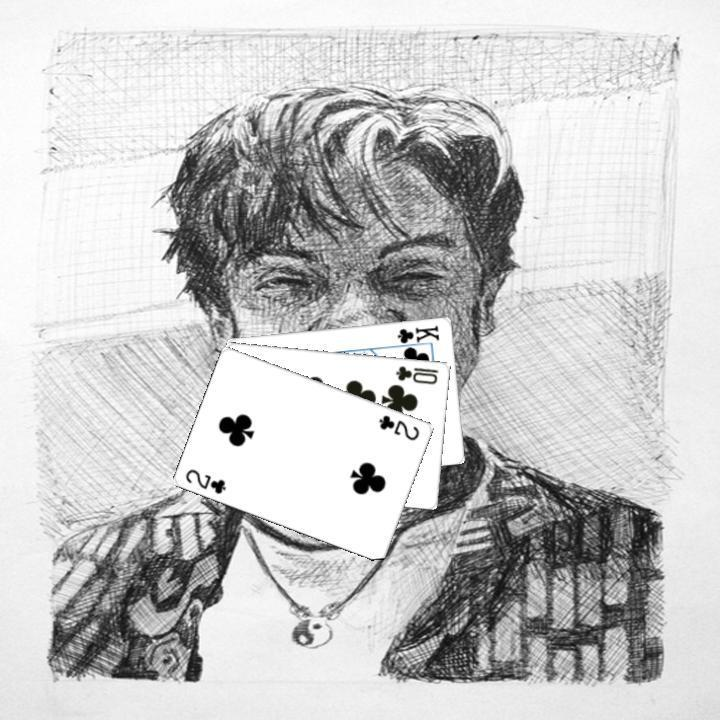10: (392, 361, 440, 386)
2: (375, 410, 422, 442), (181, 464, 228, 496)
K: (390, 321, 441, 350)
